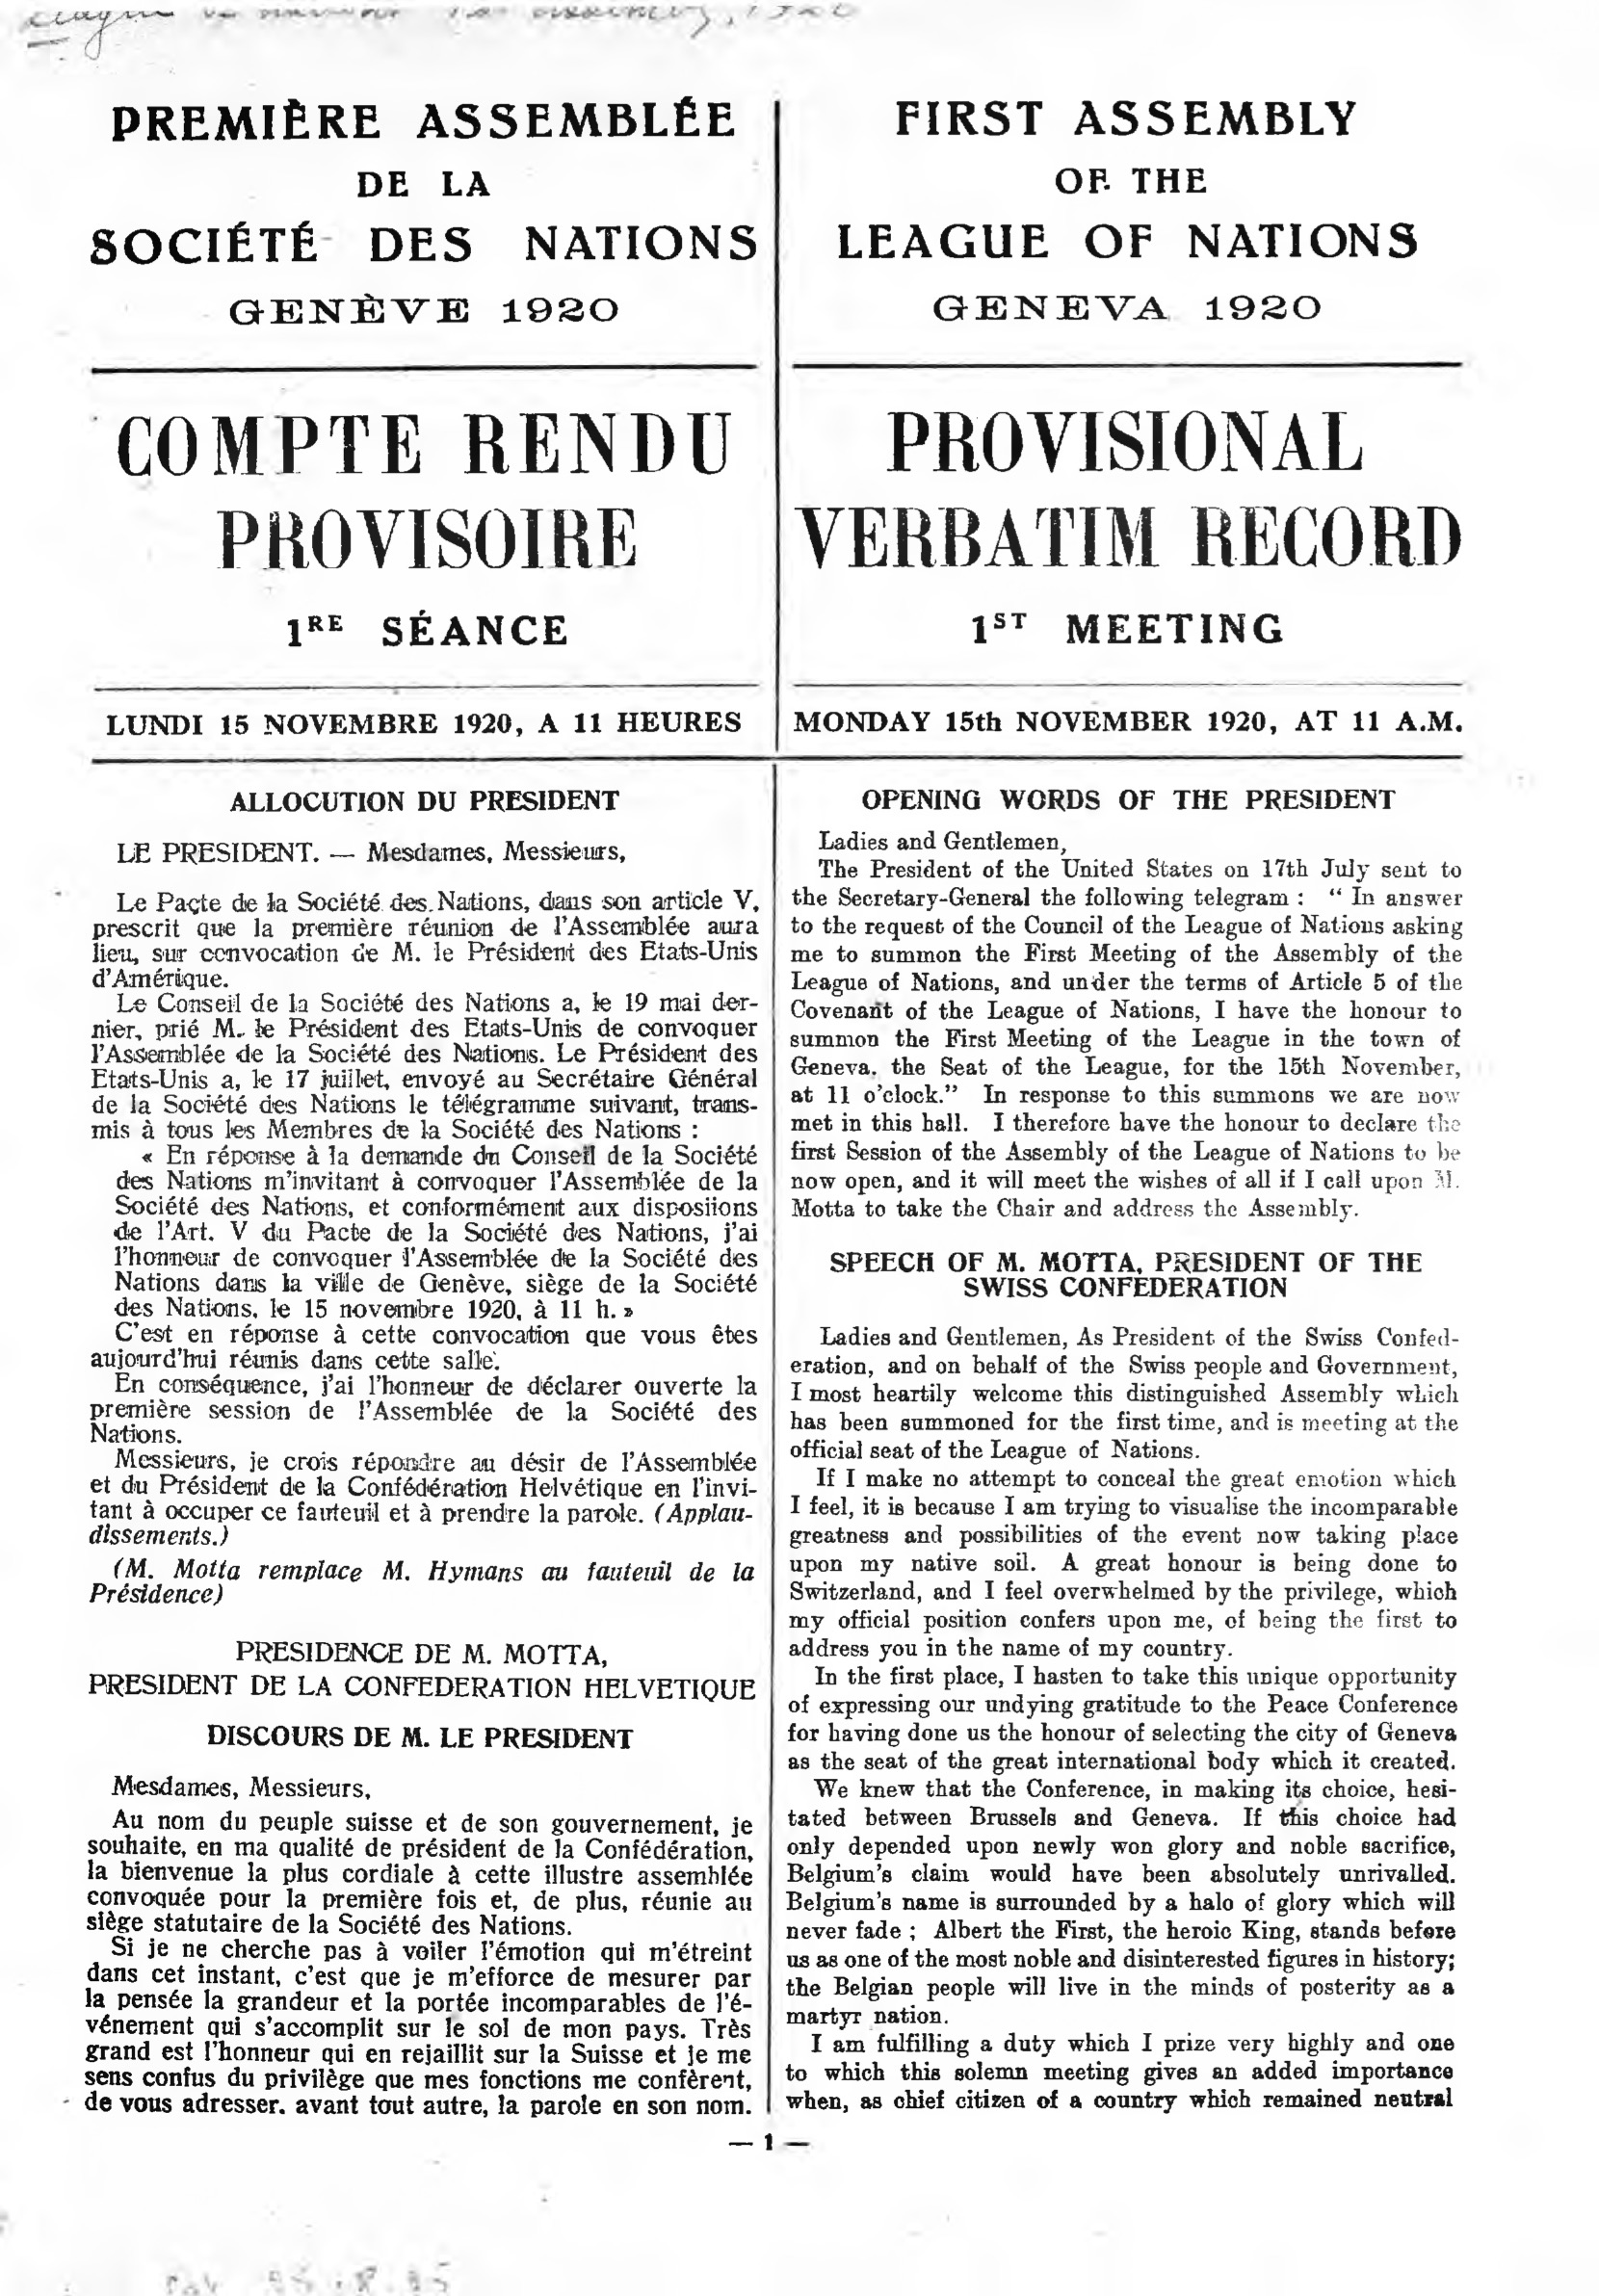MainZone-Date: (787, 696, 1471, 751), (93, 698, 753, 749)
MainZone-Head: (792, 394, 1472, 658), (95, 398, 738, 662), (71, 91, 766, 334), (817, 81, 1436, 339), (79, 1630, 761, 1761), (812, 1241, 1431, 1307), (850, 775, 1402, 819), (216, 778, 635, 824)
MainZone-P: (783, 853, 1471, 1226), (780, 1776, 1462, 2028), (782, 1464, 1464, 1662), (77, 1937, 757, 2124), (81, 1140, 761, 1321), (83, 988, 760, 1142), (783, 1320, 1464, 1462), (80, 1805, 756, 1939), (779, 1662, 1464, 1776), (85, 885, 757, 990), (81, 1447, 757, 1548), (779, 2027, 1463, 2119), (82, 1370, 759, 1447), (81, 1551, 760, 1611), (80, 1322, 762, 1372), (107, 831, 641, 872), (75, 1766, 380, 1806), (806, 827, 1070, 854)
MarginTextZone-ManuscriptAddendum: (15, 1, 863, 53)
NumberingZone: (722, 2127, 815, 2156)
